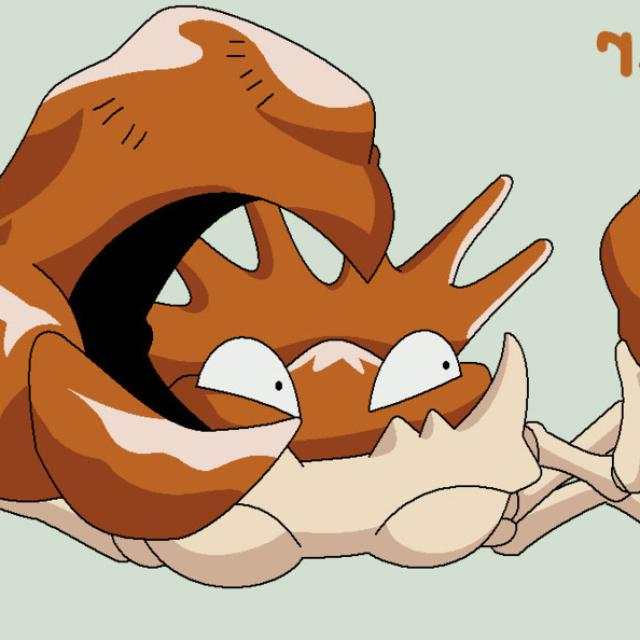Kingler: (1, 172, 632, 578)
